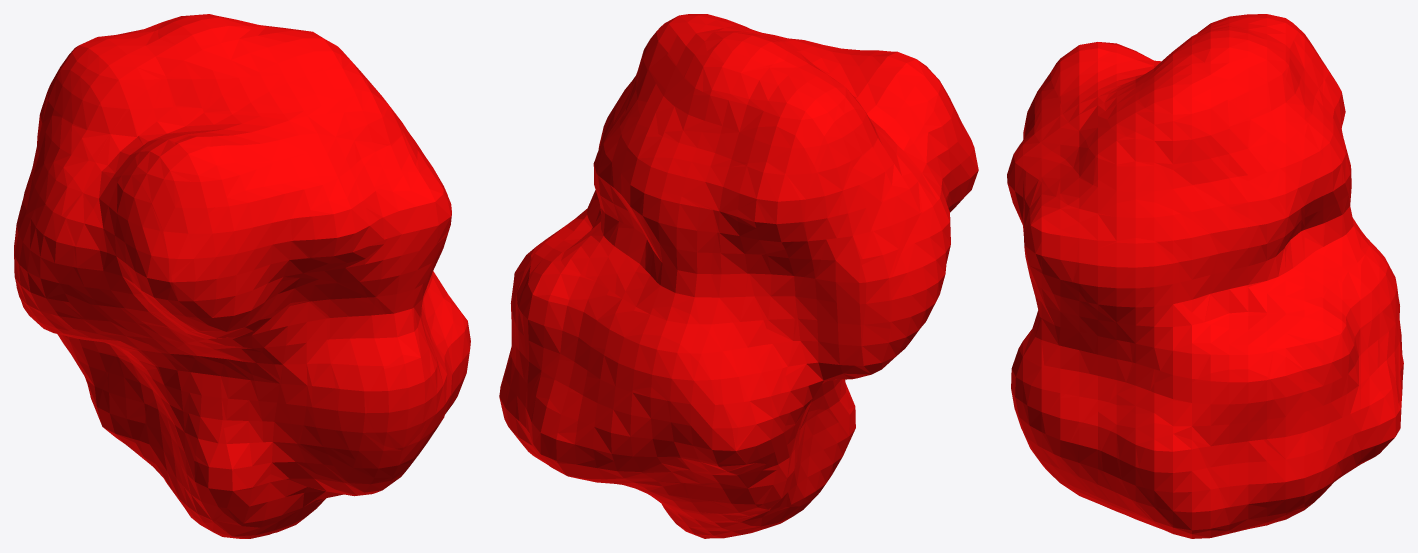
File: ydhR_coarse.dae
3 renders of one model, left to right at view 1: azimuth 30°, elevation 25°; view 2: azimuth 150°, elevation 25°; view 3: azimuth 270°, elevation 25°, orthographic. The views are drawn at different scales.
Parts seen in each view (by area): view 1: ydhR; view 2: ydhR; view 3: ydhR.
Part boxes in pixels (<box>): ydhR: <box>14,14,470,538</box>; ydhR: <box>499,14,978,538</box>; ydhR: <box>1007,14,1403,538</box>.
Bounding box in the file's own units: 44.99 × 52.21 × 39.4.
